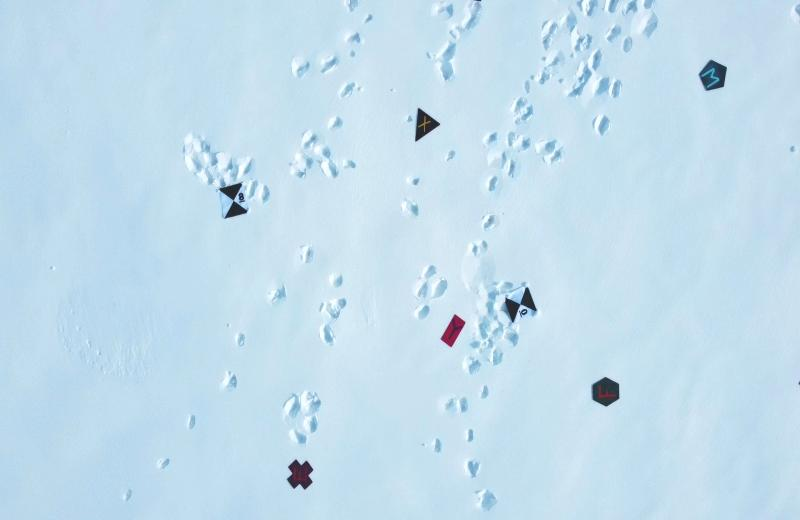Cross: (282, 456, 315, 492)
Hexagon: (584, 373, 622, 409)
Pentagon: (692, 55, 730, 95)
Rectangle: (435, 310, 468, 351)
Triangle: (410, 103, 442, 144)
